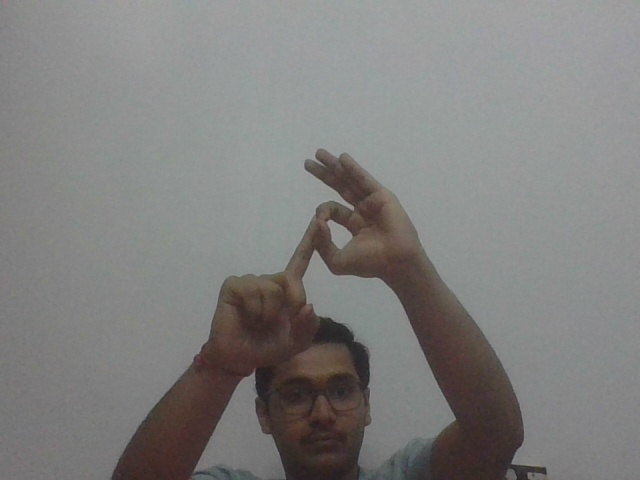Q: (215, 148, 420, 362)
